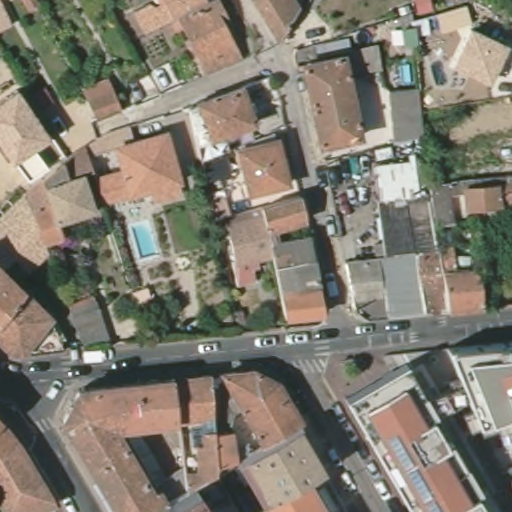pool: (127, 220, 165, 259), (392, 62, 414, 87)
